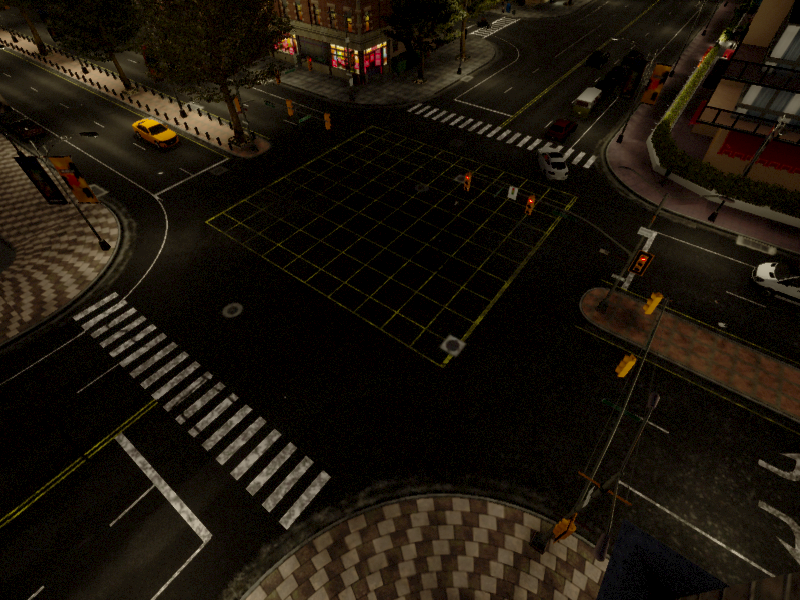vehicle: (126, 112, 183, 151), (533, 139, 574, 184), (567, 83, 606, 123), (542, 108, 582, 146)
